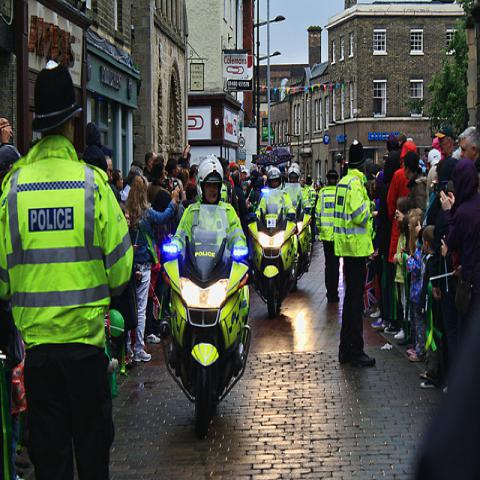motorcycle: (154, 202, 250, 436), (252, 193, 301, 326), (284, 179, 316, 280)
